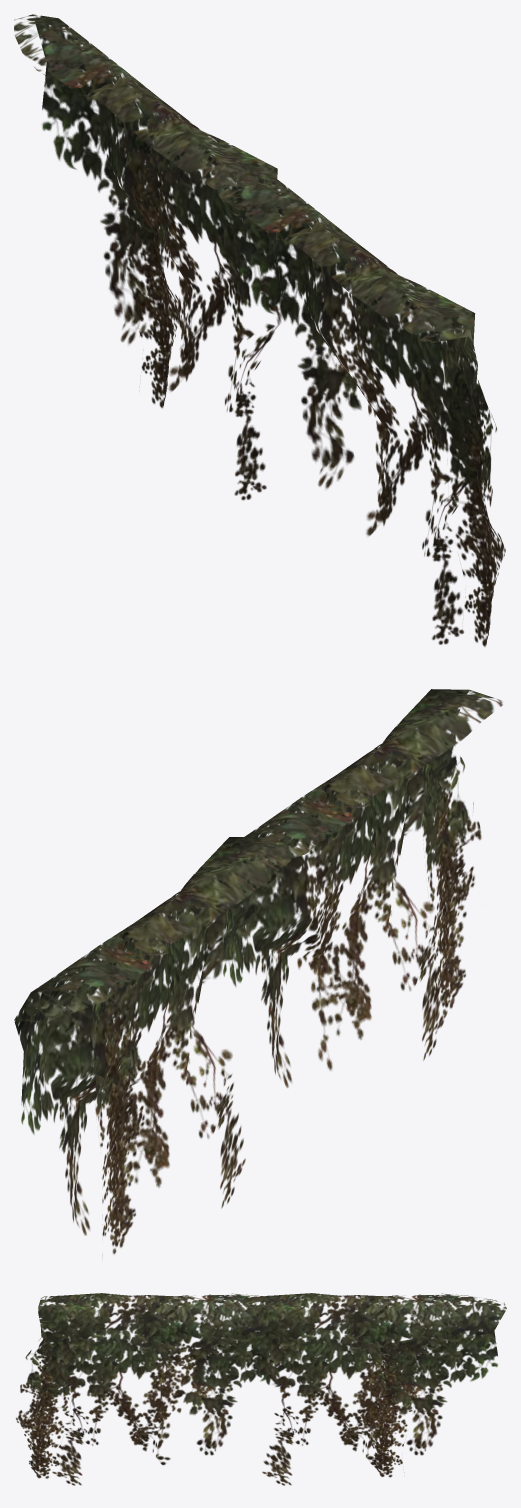
The model's file is ivy_01.glb.
The picture shows the model from 3 angles, top to bottom: view 1: azimuth 30°, elevation 25°; view 2: azimuth 150°, elevation 25°; view 3: azimuth 270°, elevation 25°; orthographic projection. The views are drawn at different scales.
Visible parts, largest first — view 1: 0_ivy01; view 2: 0_ivy01; view 3: 0_ivy01.
Part boxes in pixels (box(x1,y1,x2,y2)): 0_ivy01: box(14, 14, 505, 646); 0_ivy01: box(14, 689, 502, 1254); 0_ivy01: box(16, 1293, 506, 1485).
Bounding box in the file's own units: 0.7931 × 2.89 × 6.62.
Materials: 1 (1 with a texture image).
